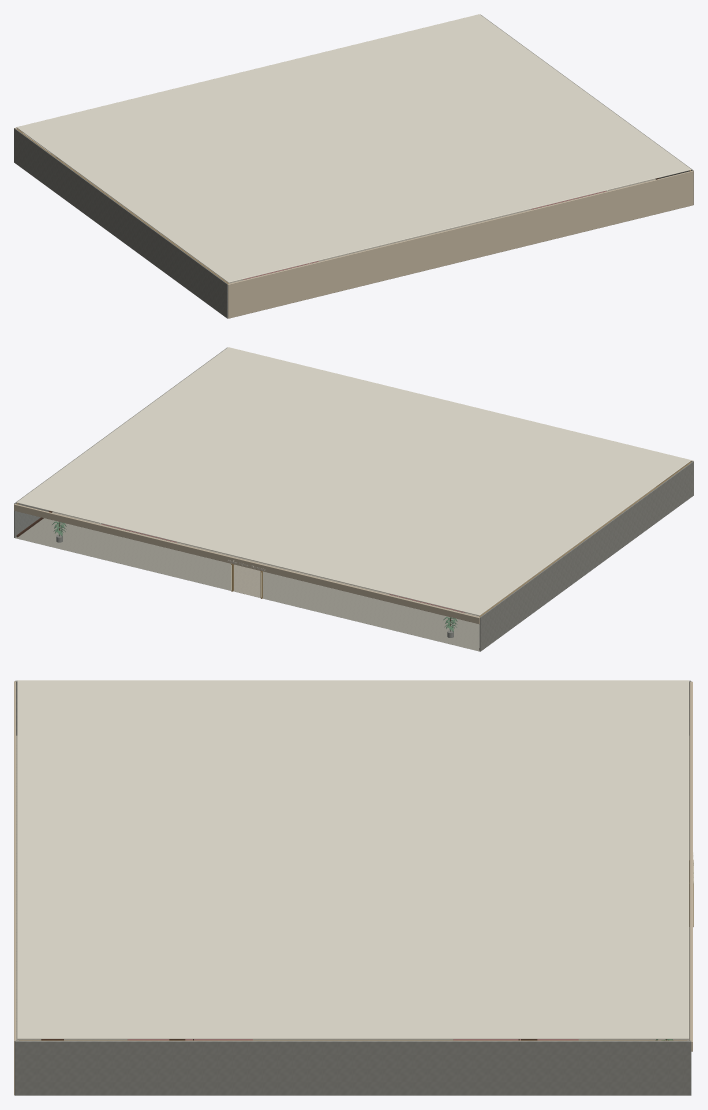
The model's file is furniture.glb.
3 renders of one model, top to bottom at view 1: azimuth 30°, elevation 25°; view 2: azimuth 150°, elevation 25°; view 3: azimuth 270°, elevation 25°, orthographic. The views are drawn at different scales.
Parts seen in each view (by area): view 1: Batched AUR-L3-FURNITURE::Warm porcelain, Batched AUR-L3-FURNITURE::Tenant furniture, Batched AUR-L3-FURNITURE::Travertine, Batched AUR-L3-FURNITURE::Cream marble; view 2: Batched AUR-L3-FURNITURE::Warm porcelain, Batched AUR-L3-FURNITURE::Cream marble, Batched AUR-L3-FURNITURE::Tenant glass, Batched AUR-L3-FURNITURE::Travertine, Batched AUR-L3-FURNITURE::Tenant furniture, Batched AUR-L3-FURNITURE::Bronze; view 3: Batched AUR-L3-FURNITURE::Warm porcelain, Batched AUR-L3-FURNITURE::Travertine, Batched AUR-L3-FURNITURE::Tenant furniture, Batched AUR-L3-FURNITURE::Cream marble, Batched AUR-L3-FURNITURE::Bronze.
Part boxes in pixels (x1,y1,x2,y2): Batched AUR-L3-FURNITURE::Warm porcelain: (16,14,691,282); Batched AUR-L3-FURNITURE::Tenant furniture: (15,127,693,318); Batched AUR-L3-FURNITURE::Travertine: (14,14,693,318); Batched AUR-L3-FURNITURE::Cream marble: (51,153,655,283); Batched AUR-L3-FURNITURE::Warm porcelain: (16,347,691,615); Batched AUR-L3-FURNITURE::Cream marble: (15,487,655,651); Batched AUR-L3-FURNITURE::Tenant glass: (15,511,479,650); Batched AUR-L3-FURNITURE::Travertine: (14,347,693,651); Batched AUR-L3-FURNITURE::Tenant furniture: (14,460,693,624); Batched AUR-L3-FURNITURE::Bronze: (17,462,690,616); Batched AUR-L3-FURNITURE::Warm porcelain: (17,680,693,1039); Batched AUR-L3-FURNITURE::Travertine: (15,680,691,1095); Batched AUR-L3-FURNITURE::Tenant furniture: (14,681,692,1095); Batched AUR-L3-FURNITURE::Cream marble: (16,735,689,1040); Batched AUR-L3-FURNITURE::Bronze: (19,860,693,1040).
Size of the model in its own units: 68.16 by 4.97 by 54.29.
12 materials, 4 textured.
